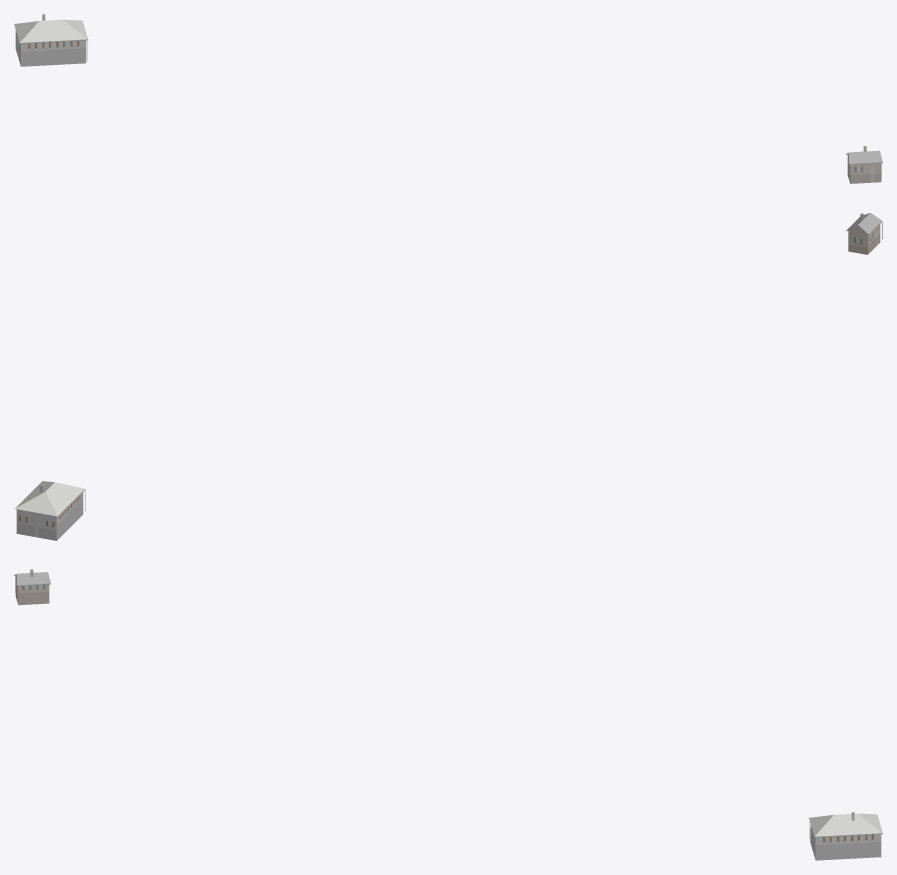
The picture shows the model from 3 angles, top to bottom: view 1: azimuth 90°, elevation 25°; view 2: azimuth 150°, elevation 25°; view 3: azimuth 270°, elevation 25°; orthographic projection. The views are drawn at different scales.
Parts seen in each view (by area): view 1: bld; view 2: bld; view 3: bld.
Boxes of the visible parts, bbox=[...] form: bld: bbox=[14, 14, 882, 183]; bld: bbox=[15, 212, 882, 540]; bld: bbox=[14, 569, 882, 860].
Bounding box in the file's own units: 109 × 23.61 × 196.
